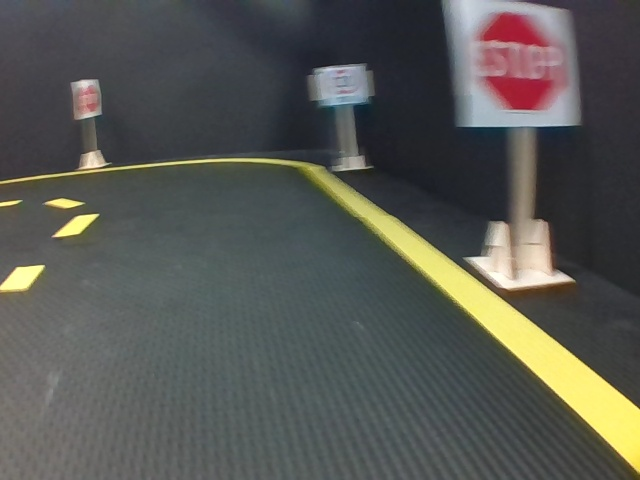30: (319, 65, 370, 102)
stop: (455, 2, 578, 124), (72, 79, 100, 118)
